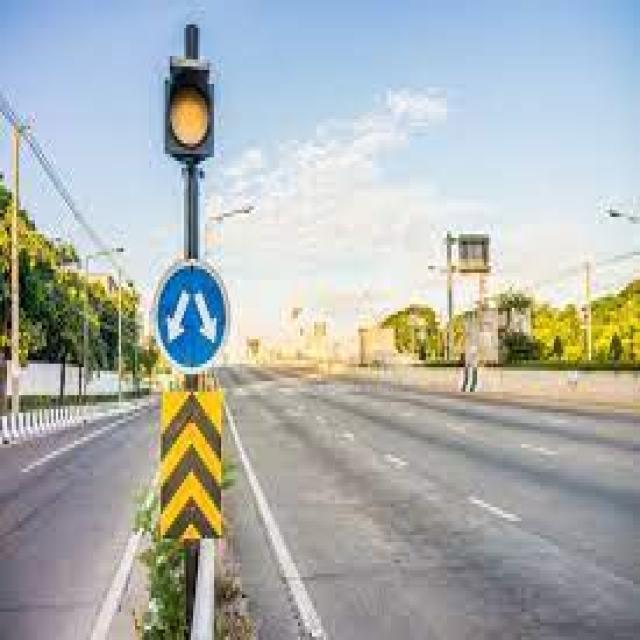pass either side: (153, 259, 231, 372)
